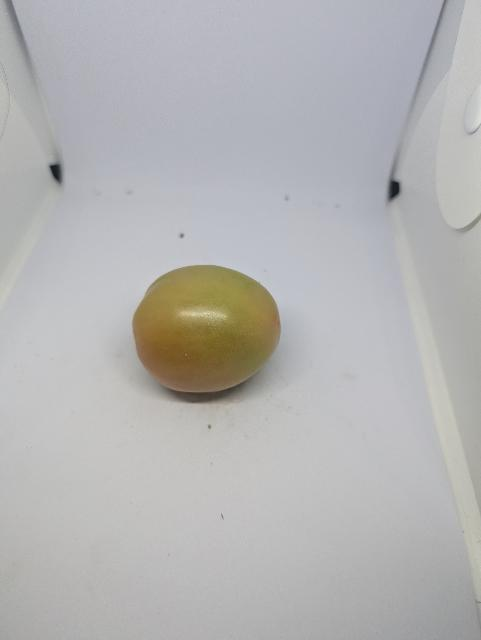breaker: (131, 261, 287, 391)
